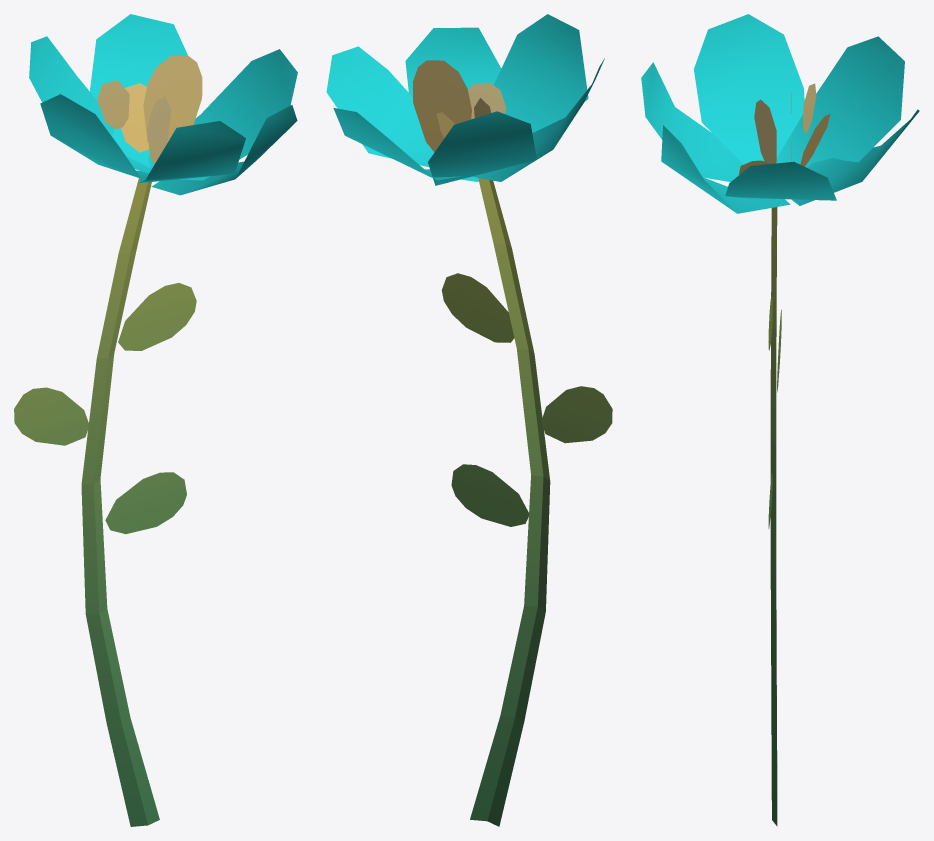
The model's file is SM_Flower_1.fbx.
3 views of the same model, side by side, from view 1: azimuth 30°, elevation 25°; view 2: azimuth 150°, elevation 25°; view 3: azimuth 270°, elevation 25° (orthographic).
Parts seen in each view (by area): view 1: SM_Flower_1; view 2: SM_Flower_1; view 3: SM_Flower_1.
Part boxes in pixels (x1,y1,x2,y2): SM_Flower_1: (14,14,297,826); SM_Flower_1: (326,14,612,826); SM_Flower_1: (641,14,919,826).
Size of the model in its own units: 15.62 by 41.97 by 13.98.
